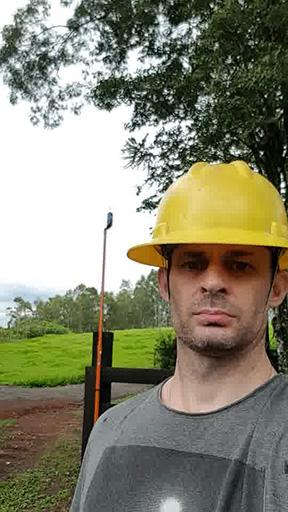Vara_Manobra: (91, 229, 108, 426)
